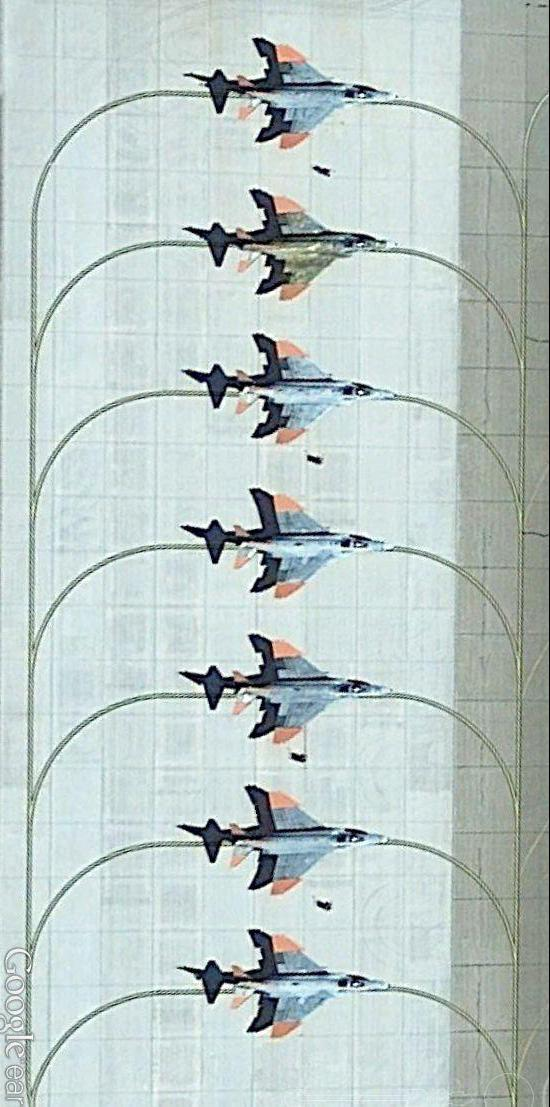plane: (206, 340, 399, 449), (216, 39, 396, 149), (209, 193, 398, 297), (213, 790, 393, 899), (215, 938, 396, 1044), (222, 640, 390, 745), (229, 494, 389, 600)
